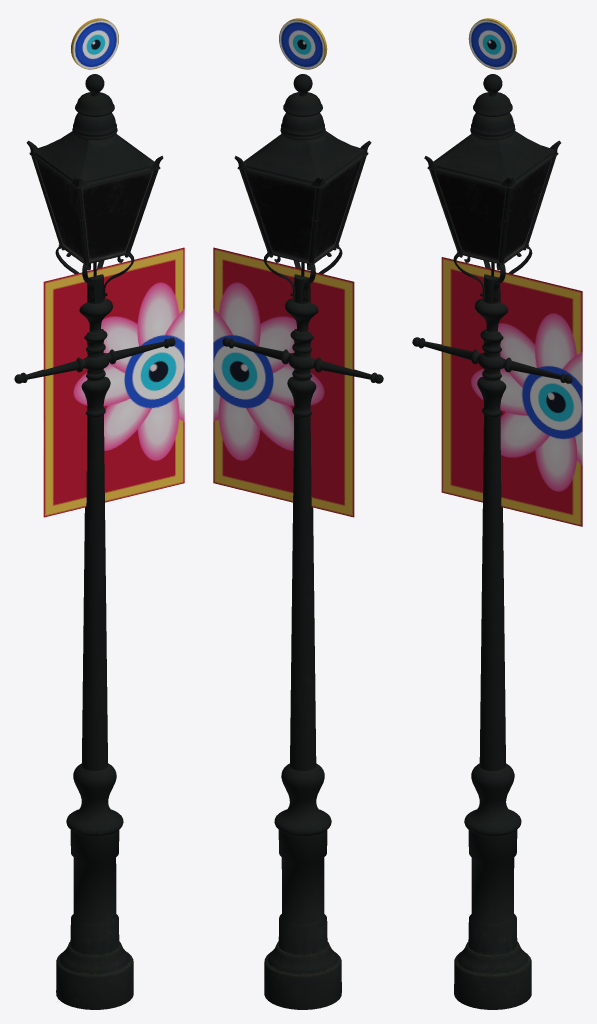
Rendered from nyb_dolly_banner.glb.
3 renders of one model, left to right at view 1: azimuth 30°, elevation 25°; view 2: azimuth 150°, elevation 25°; view 3: azimuth 330°, elevation 25°, orthographic.
Visible parts, largest first — view 1: street_lamp_01, add_lbl_403eb86322.png, add_nazar_die.png; view 2: street_lamp_01, add_lbl_403eb86322.png, add_nazar_die.png; view 3: street_lamp_01, add_lbl_403eb86322.png, add_nazar_die.png.
Part boxes in pixels (left/top/right/bottom): street_lamp_01: left=14, top=74, right=175, bottom=1009; add_lbl_403eb86322.png: left=43, top=247, right=184, bottom=517; add_nazar_die.png: left=73, top=20, right=118, bottom=68; street_lamp_01: left=222, top=74, right=383, bottom=1009; add_lbl_403eb86322.png: left=213, top=247, right=354, bottom=517; add_nazar_die.png: left=279, top=20, right=324, bottom=68; street_lamp_01: left=412, top=74, right=572, bottom=1009; add_lbl_403eb86322.png: left=441, top=257, right=582, bottom=526; add_nazar_die.png: left=469, top=20, right=514, bottom=68.
Bounding box in the file's own units: 0.7467 × 4.1 × 0.3865.
6 materials, 5 textured.
